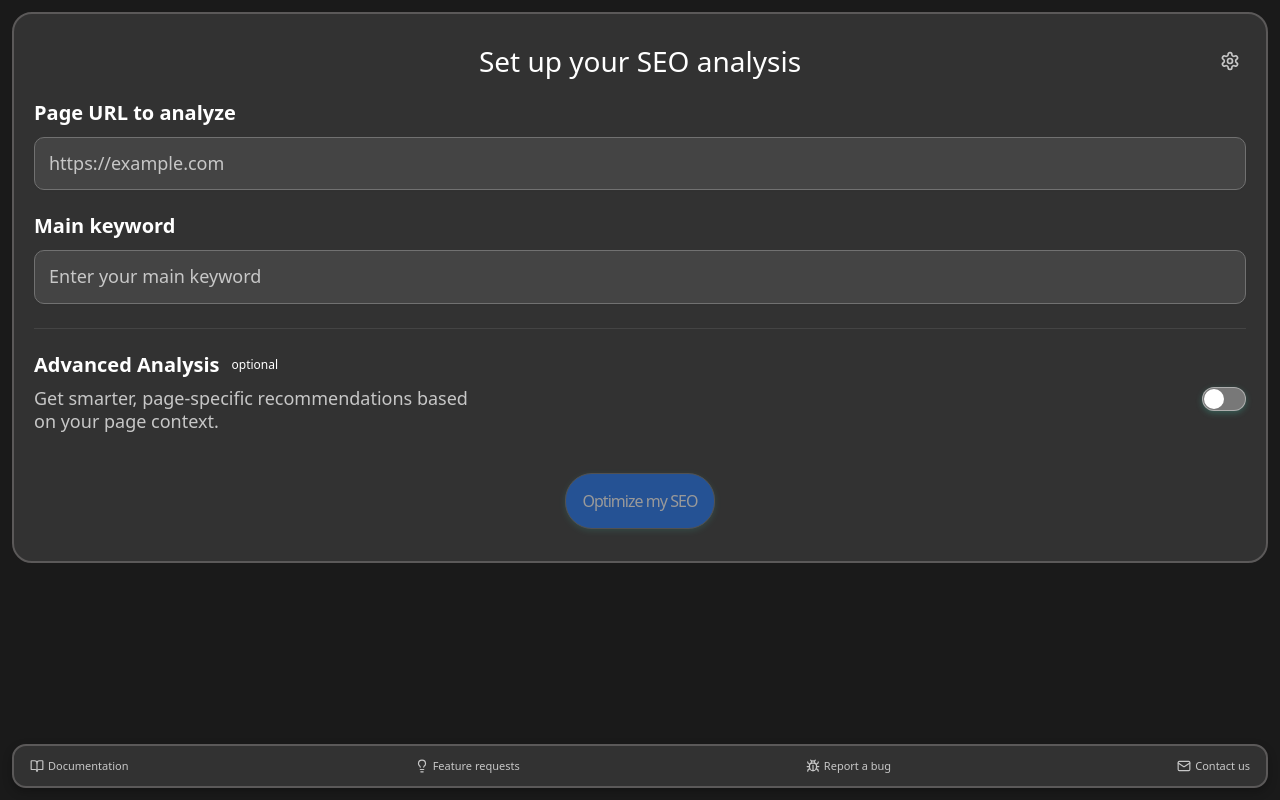
Test: SetupPage › shows language select in settings panel when gear icon is clicked
Expected: the field labelled "ai recommendations language" is not shown
// Click the settings gear icon
Click the button named "settings".
click(1230, 61)  # box 1214,45 -> 1246,77
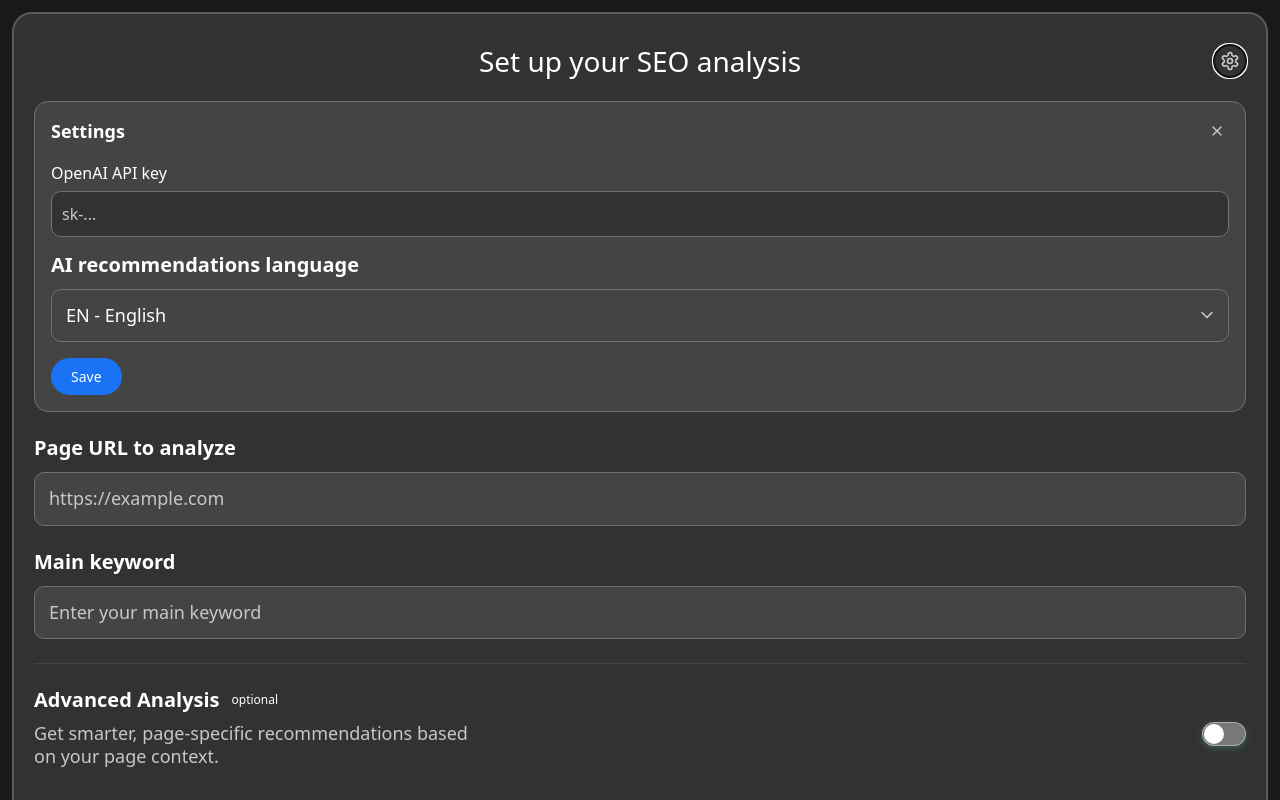
Now the dropdown labelled "AI recommendations language" shows "EN - English", box 51,289 -> 1229,342
